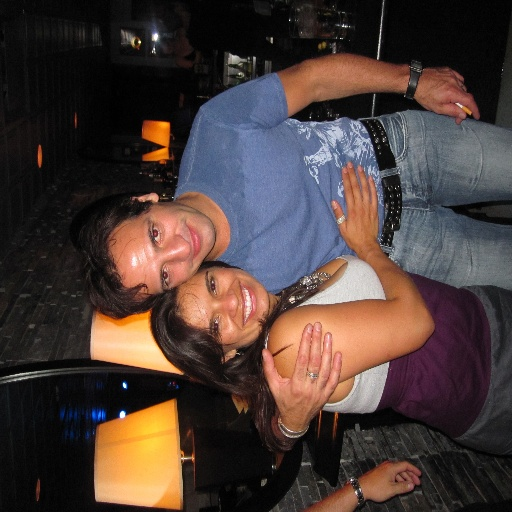hand: (260, 319, 341, 436), (330, 159, 377, 257), (414, 48, 480, 112), (358, 459, 421, 504)
